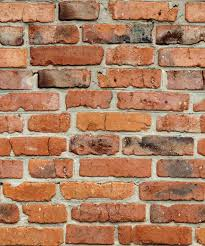brick: (79, 157, 152, 177), (107, 1, 176, 22), (83, 22, 152, 43), (29, 45, 101, 65), (120, 226, 192, 246), (119, 91, 189, 111), (98, 68, 162, 89), (1, 226, 64, 246), (1, 1, 56, 23), (71, 204, 145, 220), (1, 92, 60, 112), (125, 138, 192, 155), (77, 114, 148, 130), (36, 68, 91, 88), (156, 23, 205, 44), (157, 158, 205, 179), (142, 183, 205, 199), (66, 226, 116, 246), (159, 46, 205, 67), (63, 183, 132, 197), (28, 158, 74, 178), (29, 26, 79, 44), (12, 138, 64, 155), (57, 1, 100, 21), (6, 183, 56, 200), (106, 47, 155, 64), (153, 206, 205, 222), (166, 69, 205, 90), (73, 135, 118, 153), (66, 91, 110, 108), (26, 205, 67, 222), (29, 114, 69, 131), (1, 69, 33, 89), (159, 115, 198, 131), (1, 46, 27, 68), (1, 25, 27, 46), (182, 2, 205, 22), (1, 159, 23, 178), (1, 116, 23, 132), (1, 205, 17, 221)
